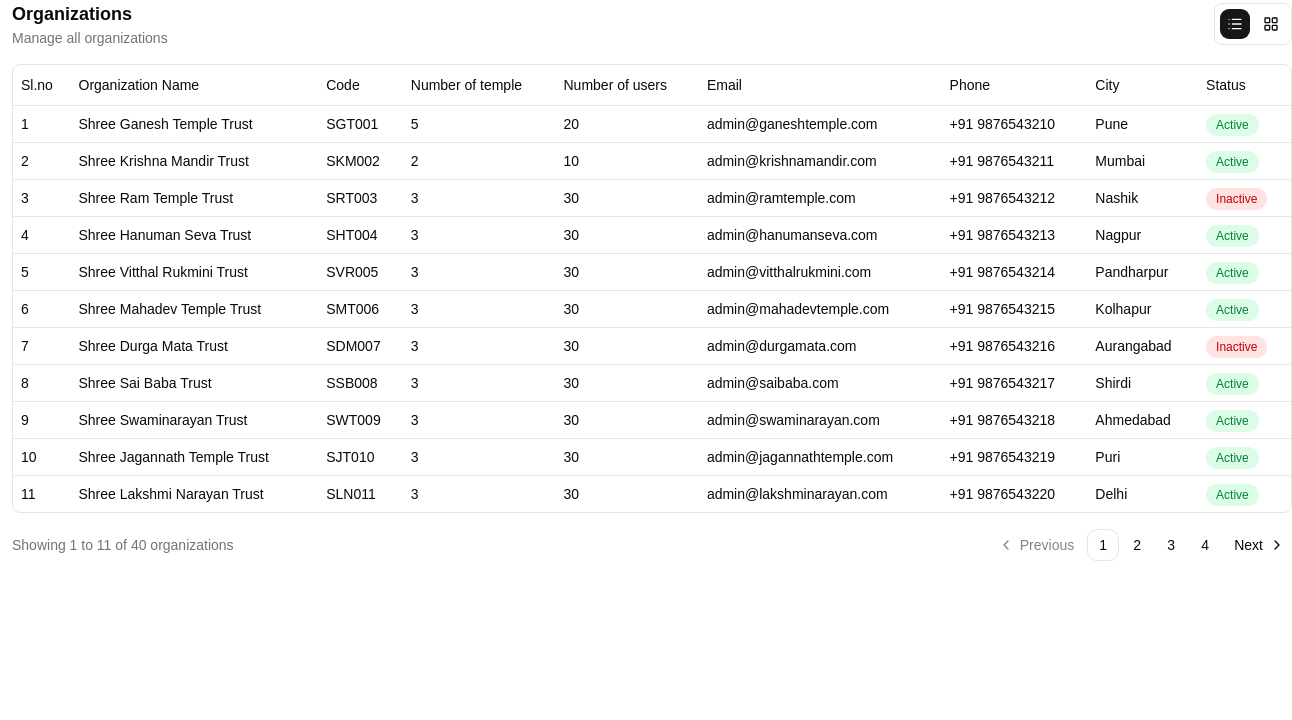
Scenario: OrganizationsTable › switches from list view to grid view
Click the button named "Grid View": (1271, 24) [1255,8,1287,40]
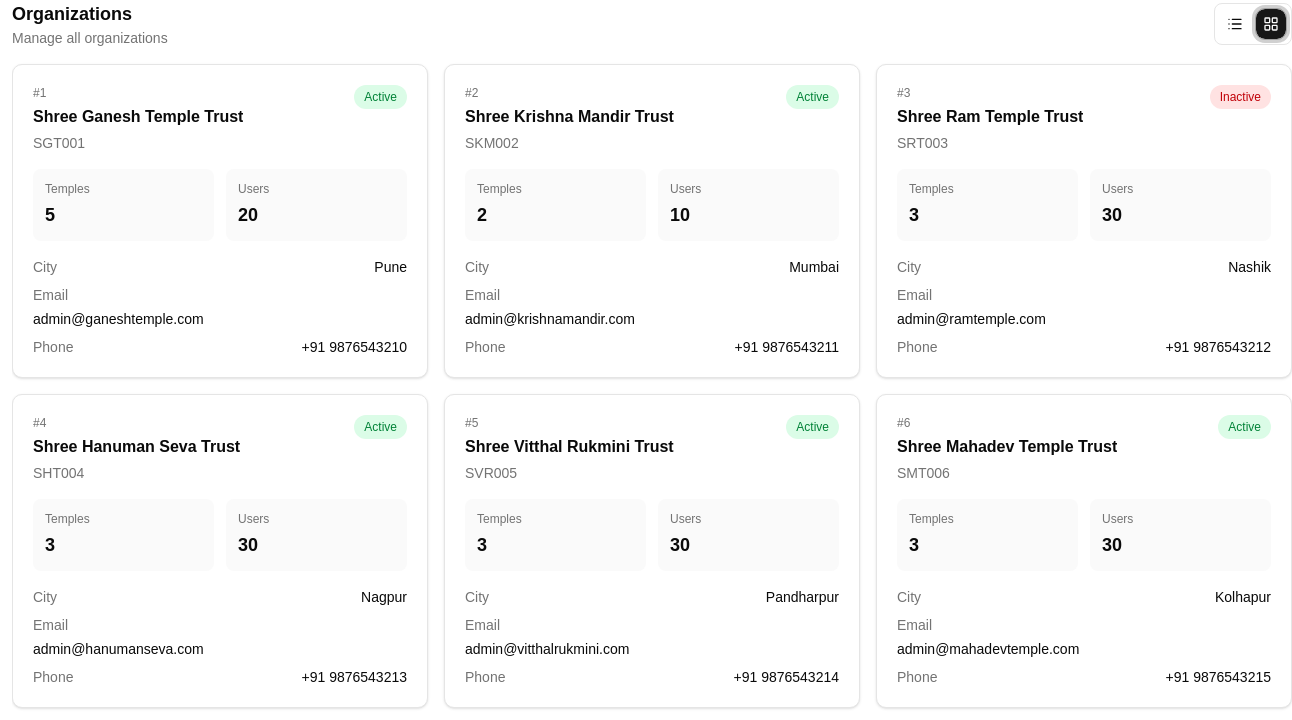
Now the text "Temples" below "SGT001" is shown, box [45,182,90,196]
Now the text "Users" below "SGT001" is shown, box [238,182,269,196]
Now the column heading "Organization Name" is gone
